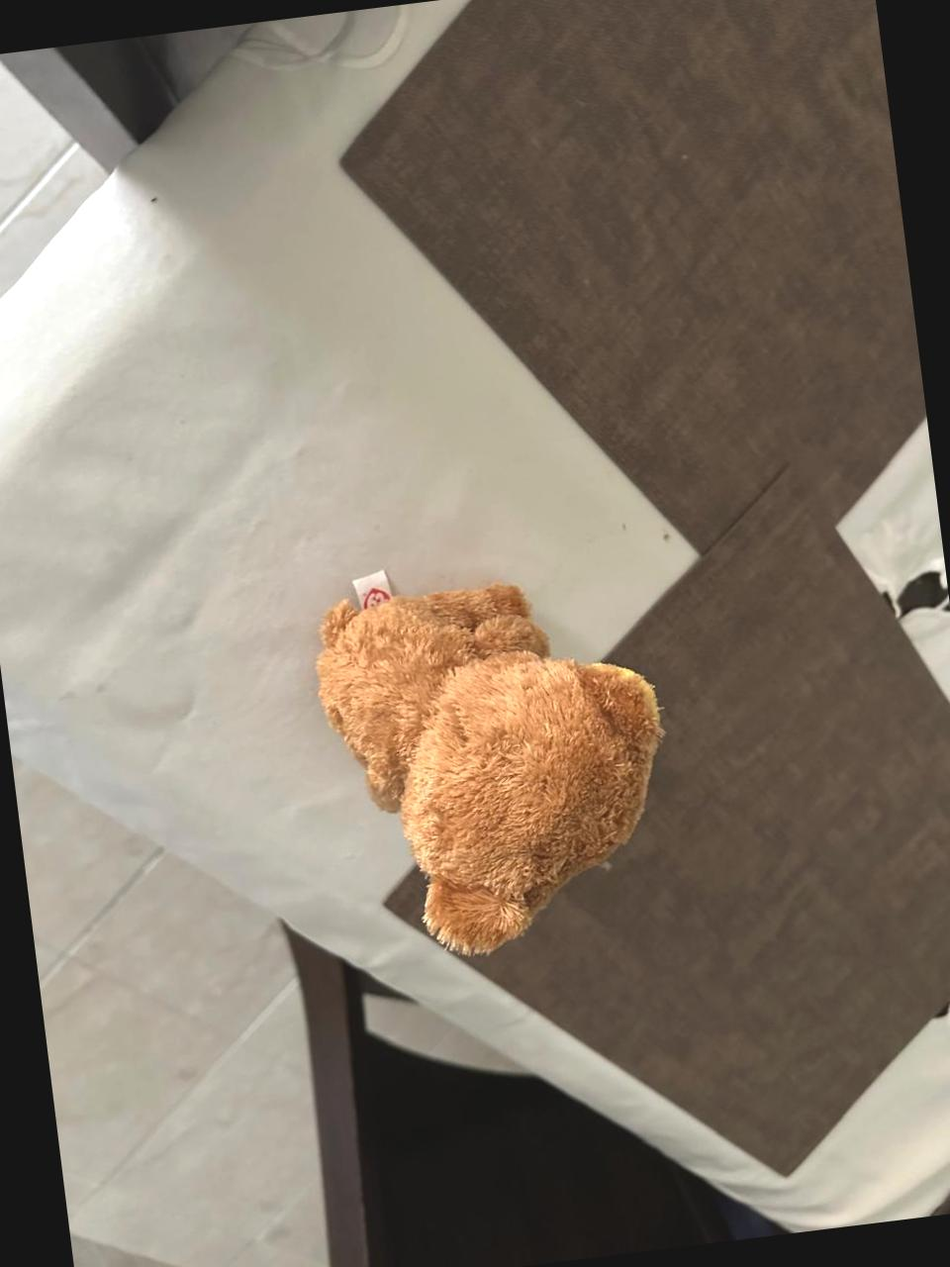peluche_sebastian: (304, 540, 691, 978)
